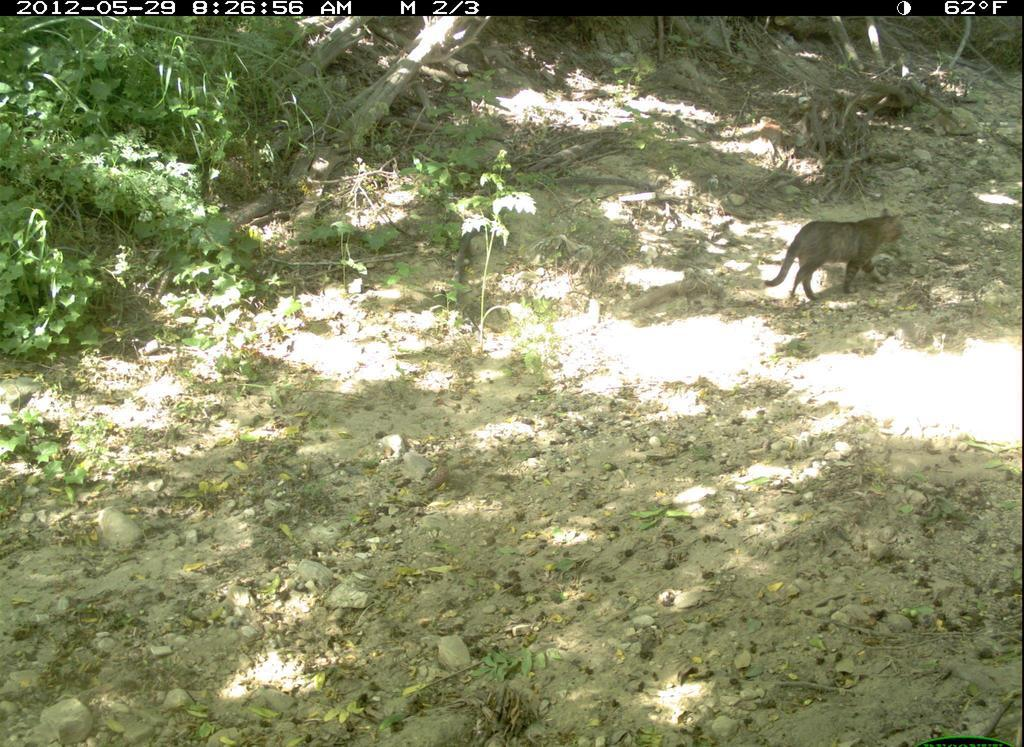cat: (760, 204, 909, 310)
